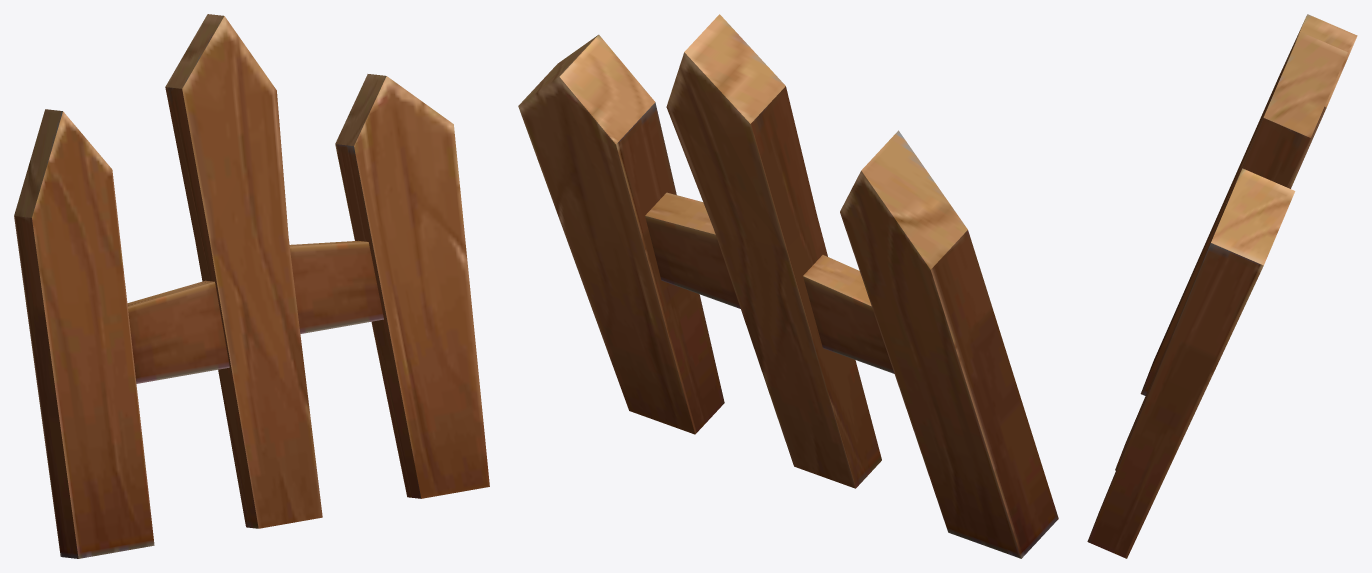
The model's file is caodi_liba_03.fbx.
The picture shows the model from 3 angles, left to right: view 1: azimuth 30°, elevation 25°; view 2: azimuth 150°, elevation 25°; view 3: azimuth 270°, elevation 25°; orthographic projection. The views are drawn at different scales.
Parts seen in each view (by area): view 1: caodi_liba_03; view 2: caodi_liba_03; view 3: caodi_liba_03.
Boxes of the visible parts, bbox=[...] form: caodi_liba_03: bbox=[14, 14, 489, 558]; caodi_liba_03: bbox=[518, 14, 1058, 558]; caodi_liba_03: bbox=[1087, 14, 1357, 558].
Size of the model in its own units: 3.43 by 3.62 by 1.95.
